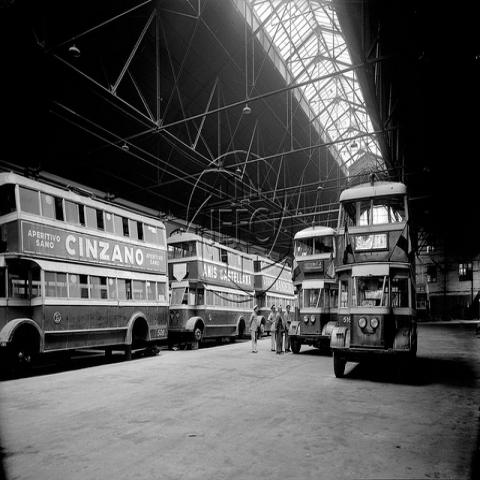bus: (0, 172, 168, 373), (321, 178, 419, 380), (167, 233, 293, 345), (287, 224, 339, 356)
